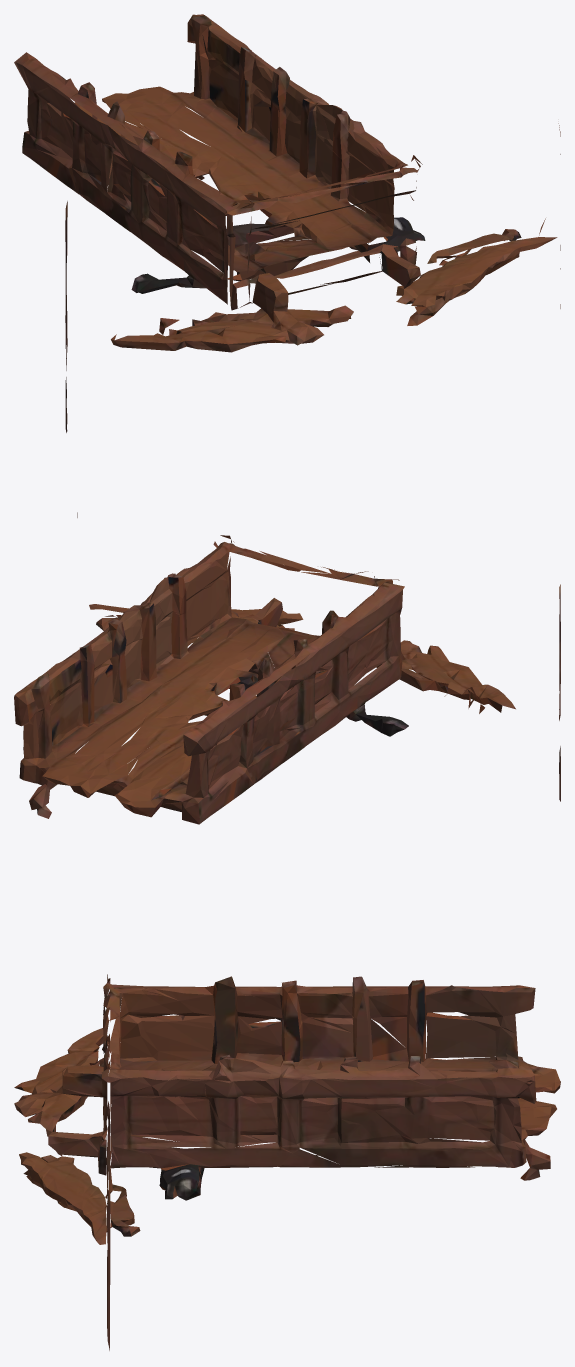
The model's file is cart_wreck.glb.
3 renders of one model, top to bottom at view 1: azimuth 30°, elevation 25°; view 2: azimuth 150°, elevation 25°; view 3: azimuth 270°, elevation 25°, orthographic. The views are drawn at different scales.
Visible parts, largest first — view 1: geometry_0; view 2: geometry_0; view 3: geometry_0.
Boxes of the visible parts, x1=… form: geometry_0: x1=14, y1=14, x2=560, y2=432; geometry_0: x1=14, y1=512, x2=560, y2=824; geometry_0: x1=14, y1=974, x2=560, y2=1350.
Bounding box in the file's own units: 2 × 0.9957 × 1.91.
Materials: 1 (1 with a texture image).
